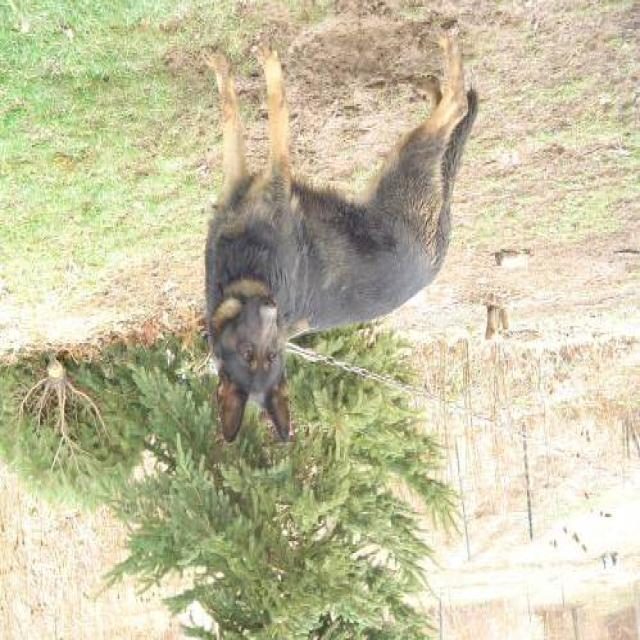dog: (182, 11, 508, 469)
